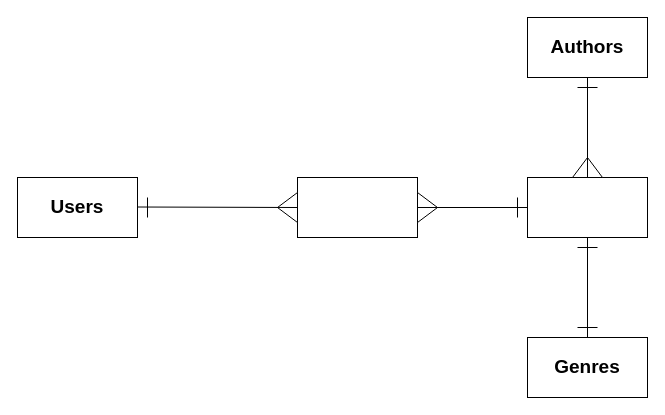
Some shapes in this 665 by 415 pixel diagram are drawn without their labels. Each missing label, with the centre of its shape:
"Books(1)" goes at [587,207].
"Reviews" goes at [357,207].
